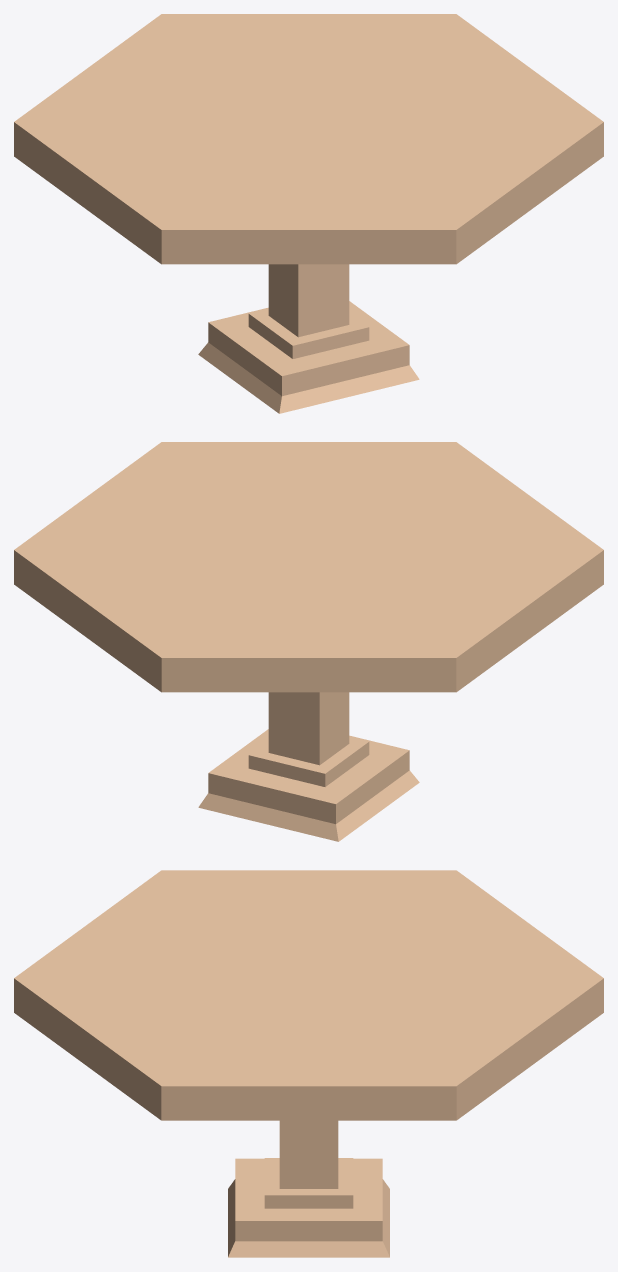
File: tableRound.glb
3 renders of one model, top to bottom at view 1: azimuth 30°, elevation 25°; view 2: azimuth 150°, elevation 25°; view 3: azimuth 270°, elevation 25°, orthographic.
Visible parts, largest first — view 1: tableRound(Clone); view 2: tableRound(Clone); view 3: tableRound(Clone).
Boxes of the visible parts, box(x1,y1,x2,y2) form: tableRound(Clone): box(14, 14, 603, 413); tableRound(Clone): box(14, 442, 603, 841); tableRound(Clone): box(14, 870, 603, 1257).
Bounding box in the file's own units: 0.6929 × 0.3667 × 0.8.
